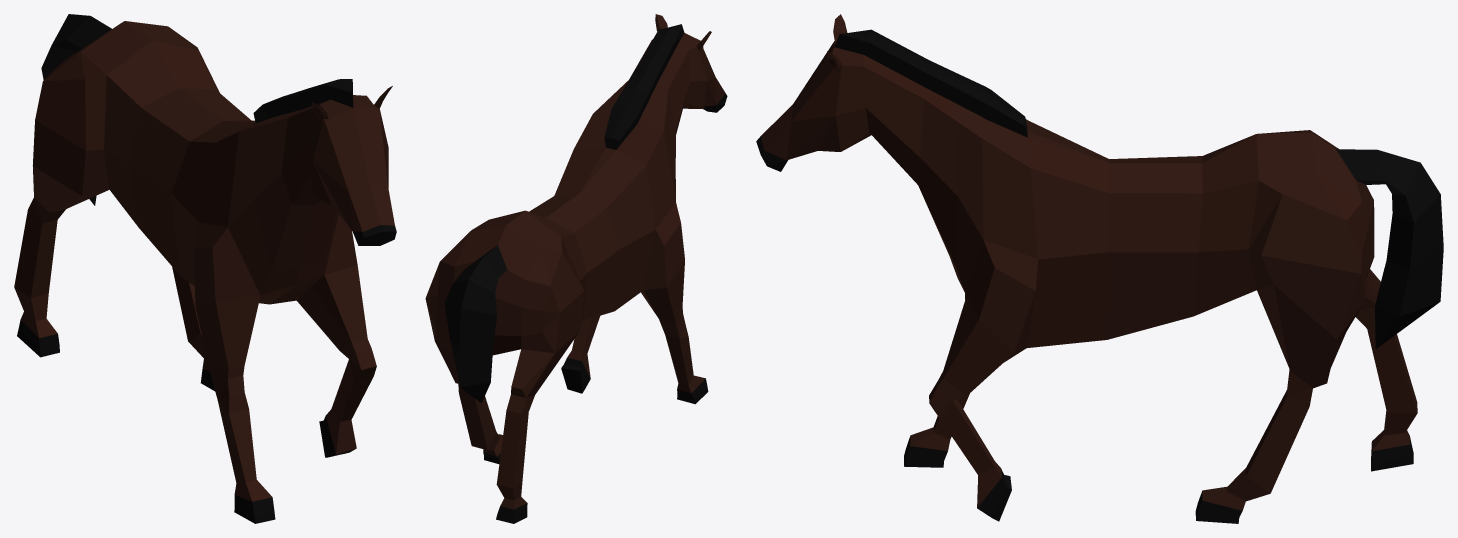
File: Horse_000022.obj
3 renders of one model, left to right at view 1: azimuth 30°, elevation 25°; view 2: azimuth 150°, elevation 25°; view 3: azimuth 270°, elevation 25°, orthographic. The views are drawn at different scales.
Visible parts, largest first — view 1: Horse_Cylinder; view 2: Horse_Cylinder; view 3: Horse_Cylinder.
Boxes of the visible parts, <box> form: Horse_Cylinder: <box>14,14,396,523</box>; Horse_Cylinder: <box>425,14,727,523</box>; Horse_Cylinder: <box>756,14,1443,523</box>.
Size of the model in its own units: 2.56 by 6.74 by 9.12.
